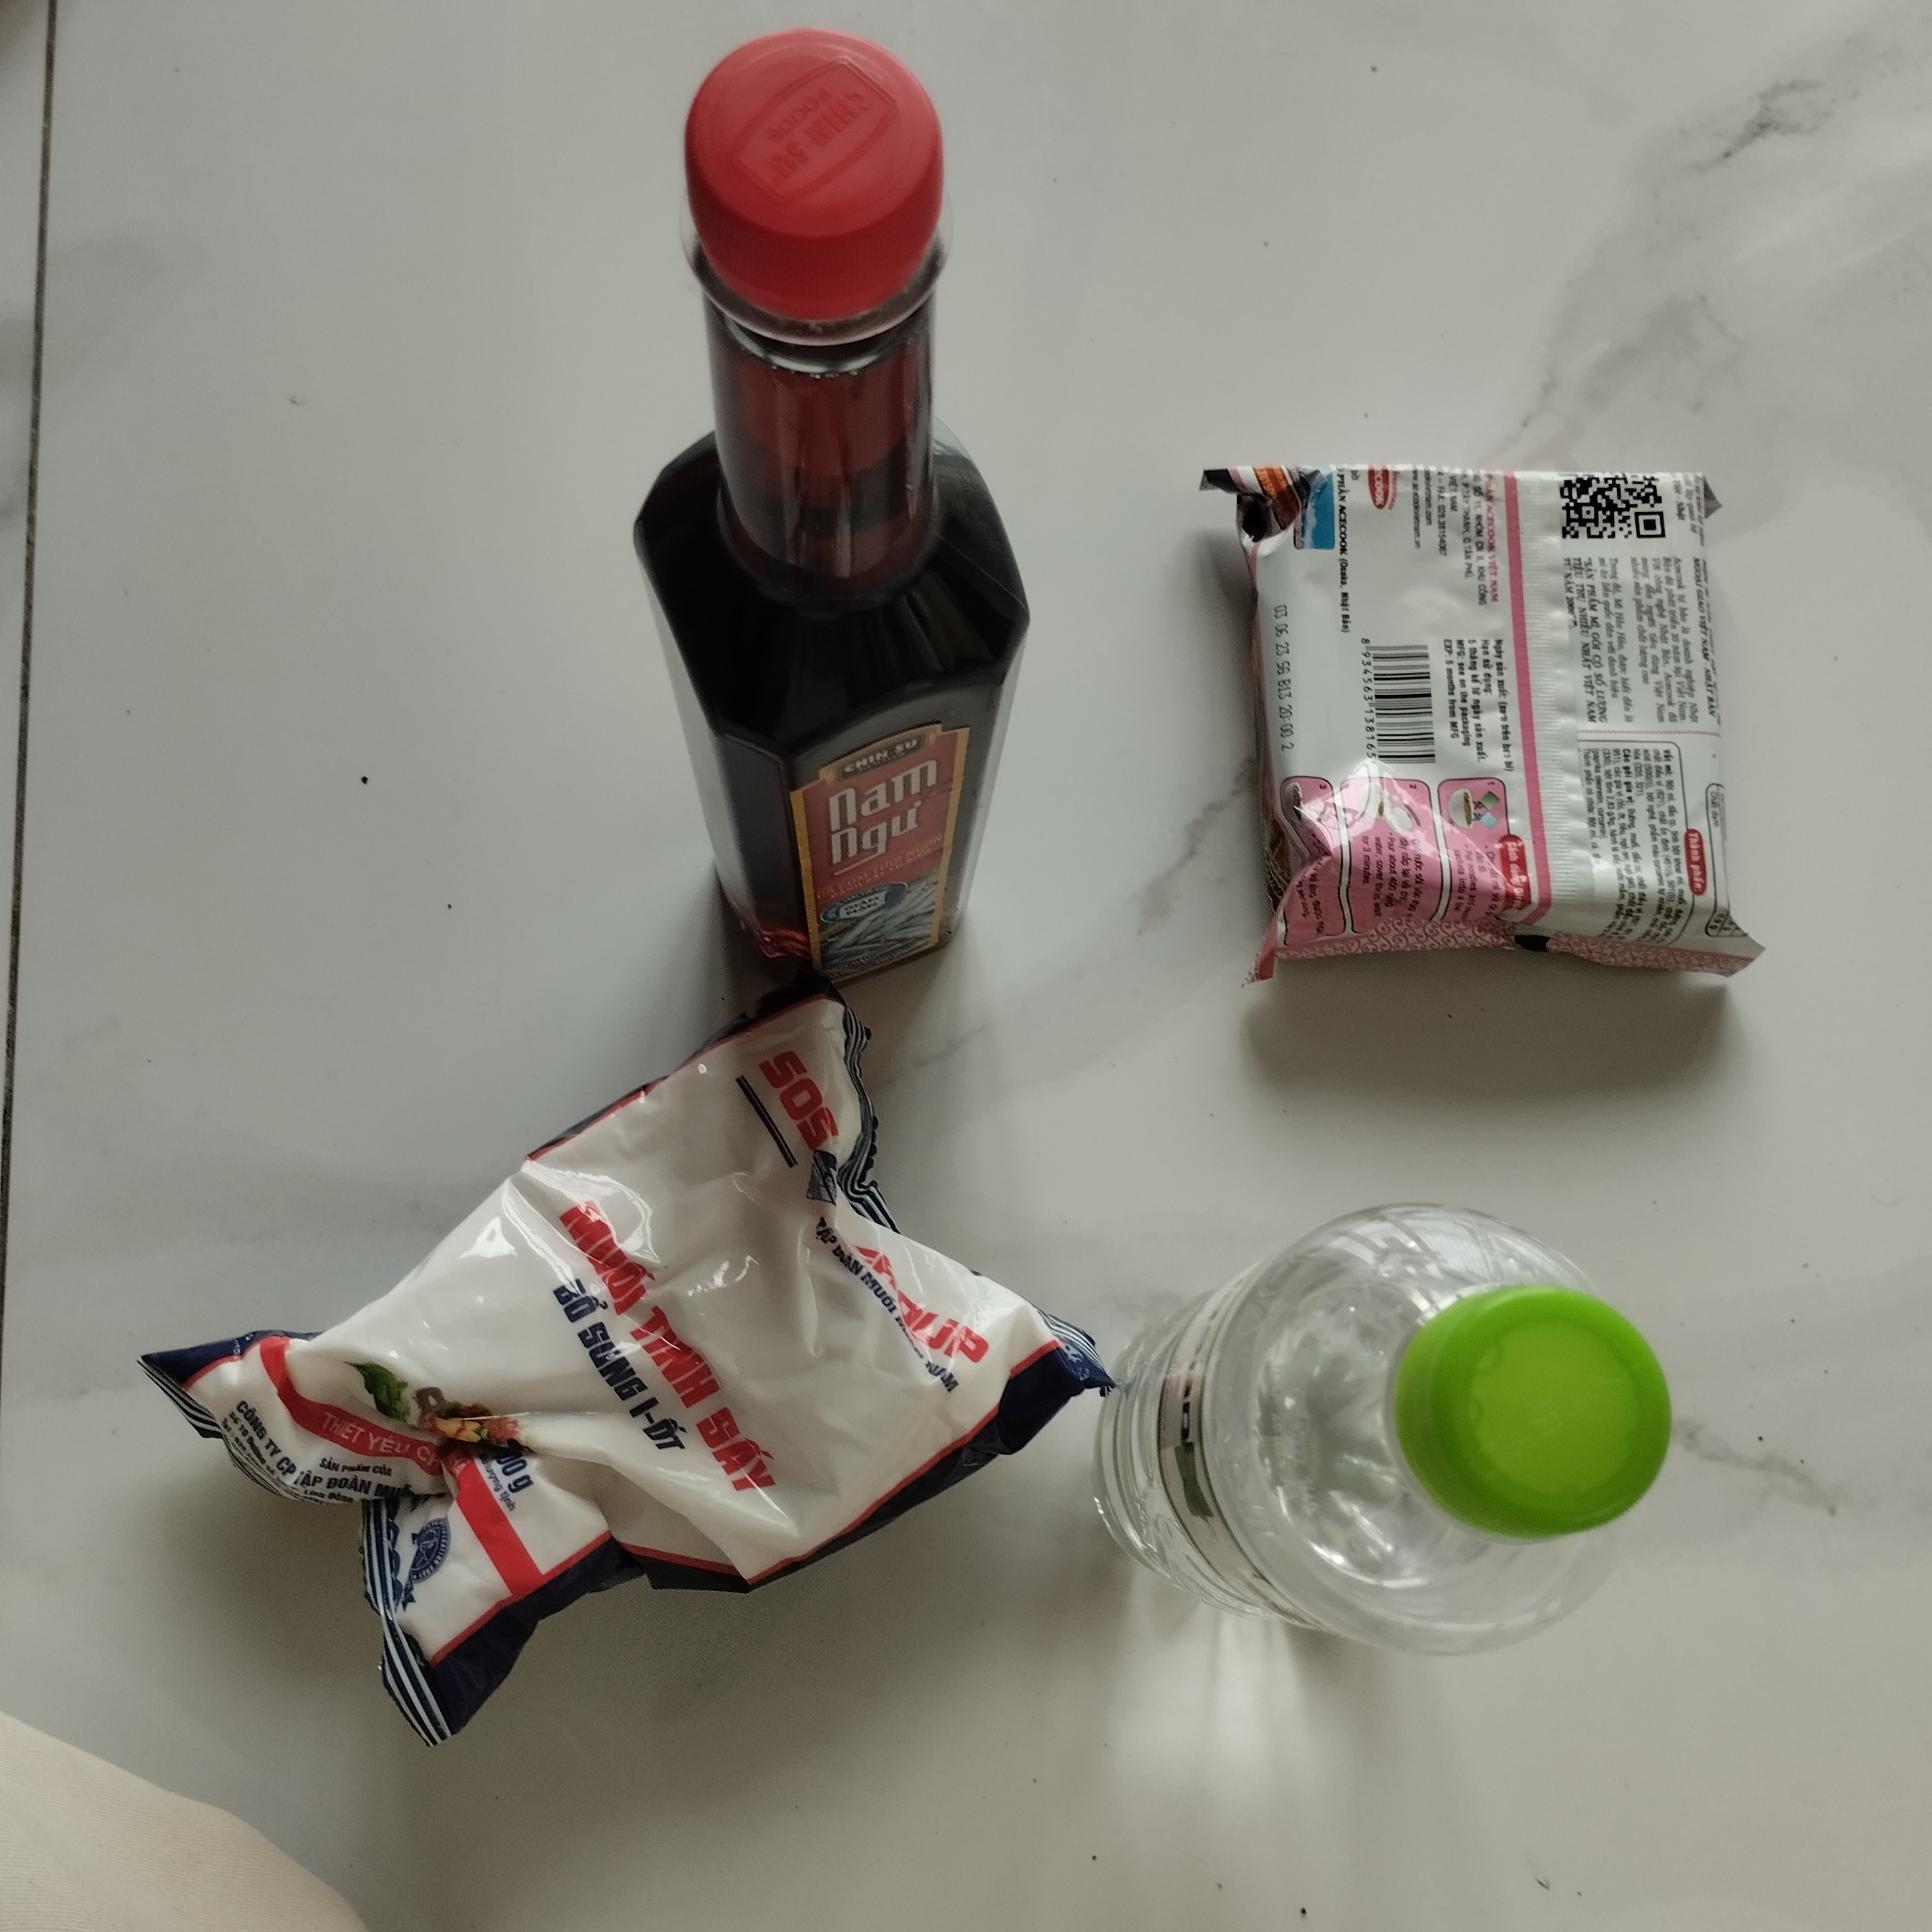Dasani: (1086, 1184, 1679, 1684)
Haohao: (1166, 442, 1778, 1019)
Namngu: (616, 11, 1035, 1014)
Salt: (142, 991, 1109, 1739)
